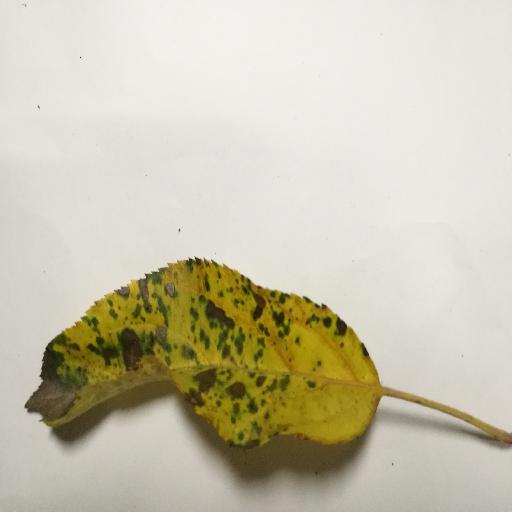Brown_Spot: (16, 184, 393, 489)
